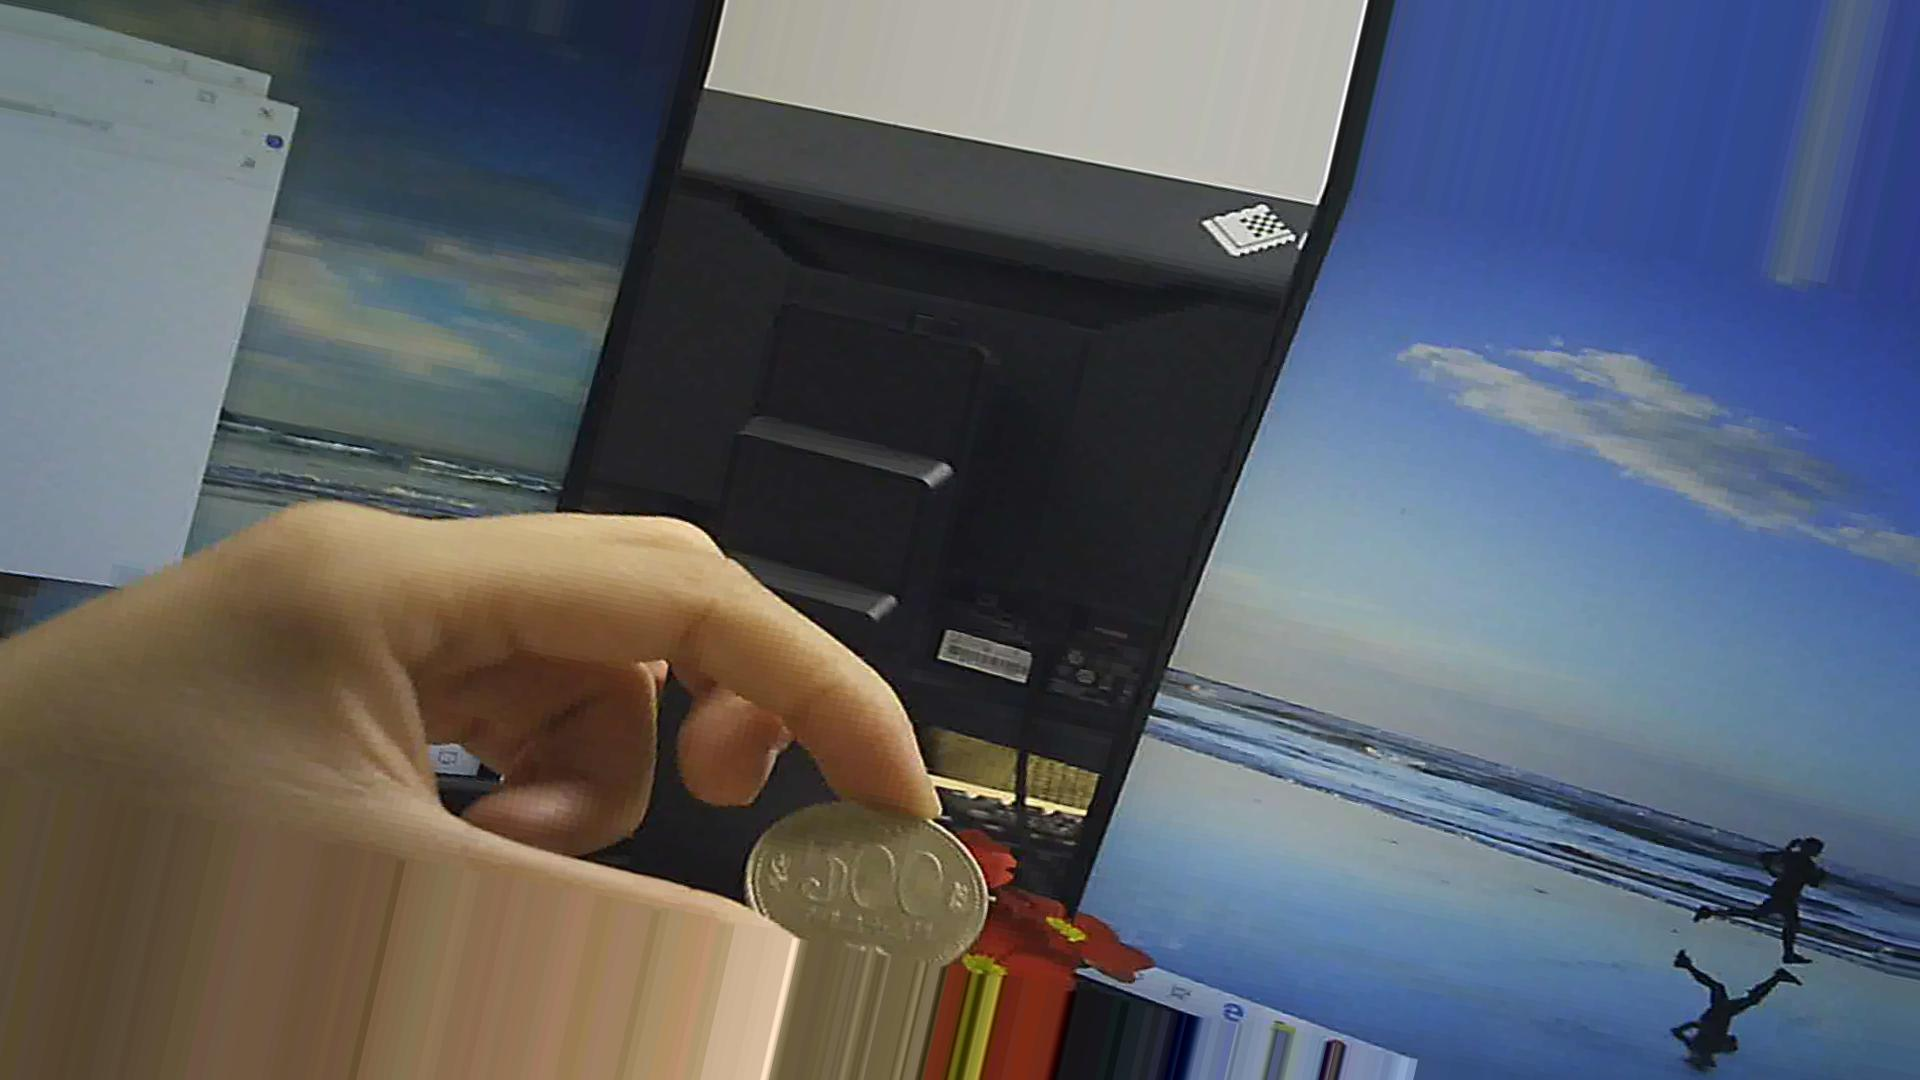500 Yen: (713, 790, 996, 964)
